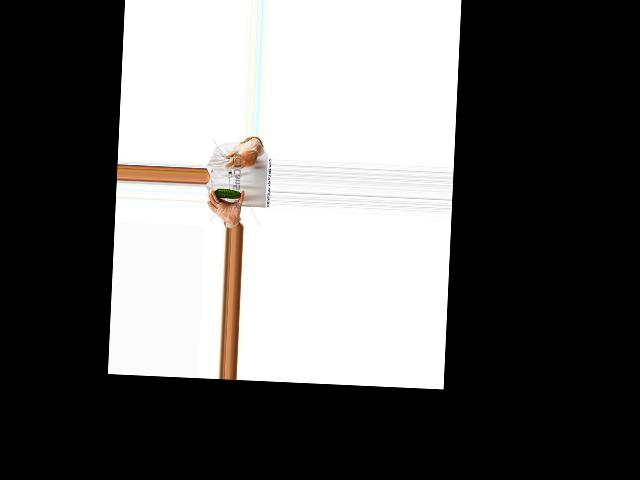cucumber: (214, 189, 242, 199)
